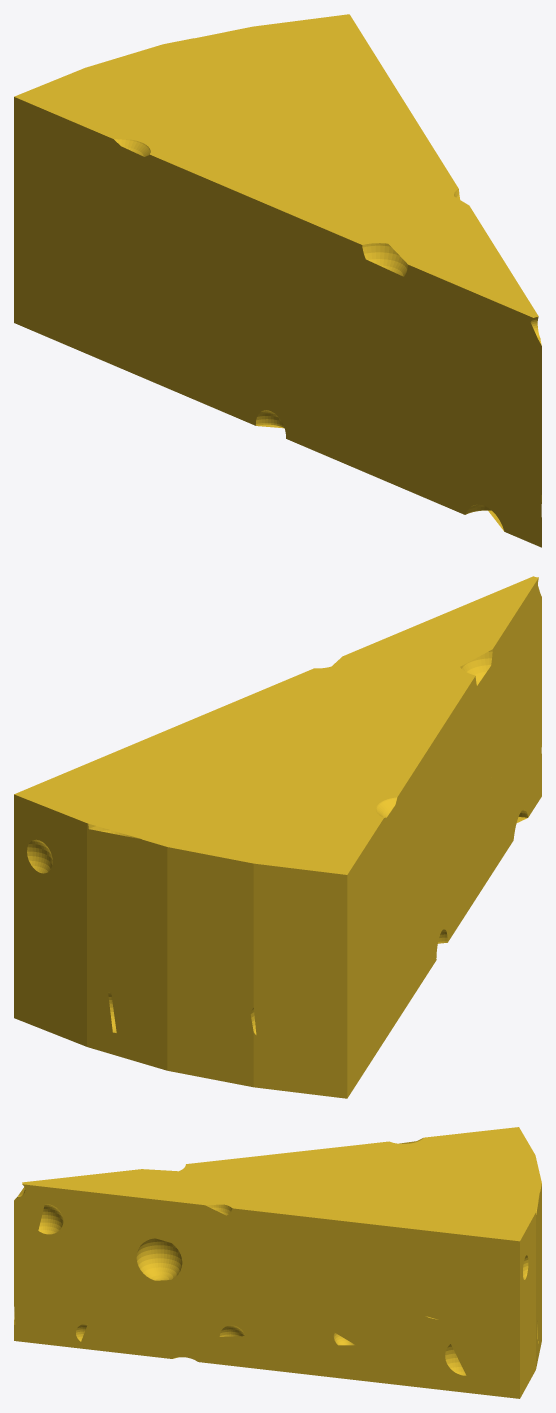
File: сыр.fbx
3 views of the same model, one above another, from view 1: azimuth 30°, elevation 25°; view 2: azimuth 150°, elevation 25°; view 3: azimuth 270°, elevation 25° (orthographic). The views are drawn at different scales.
Visible parts, largest first — view 1: Cube; view 2: Cube; view 3: Cube.
Part boxes in pixels (<box>): Cube: <box>14,14,541,547</box>; Cube: <box>14,576,541,1098</box>; Cube: <box>14,1127,541,1398</box>.
Size of the model in its own units: 33.63 by 21.62 by 65.63.
